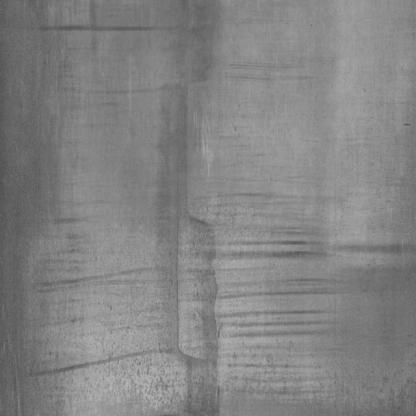waist_folding: (51, 169, 411, 392)
